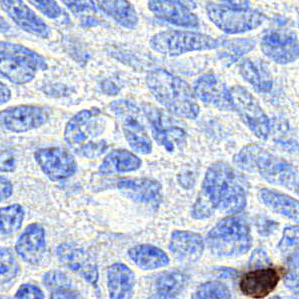Lymphocyte: (240, 269, 281, 296)
